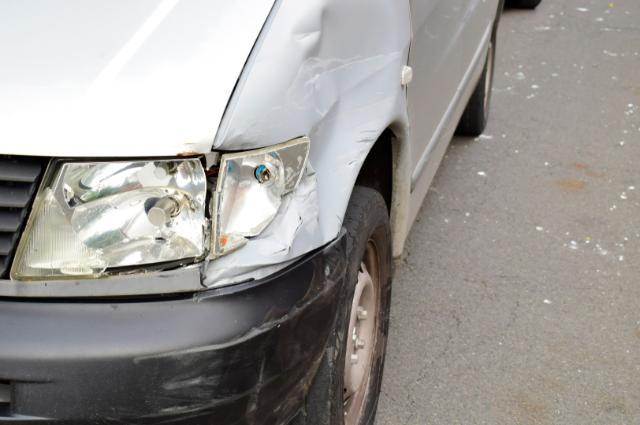Bumper: (121, 272, 340, 425)
Fender: (282, 6, 396, 209)
Light: (30, 158, 279, 275)
